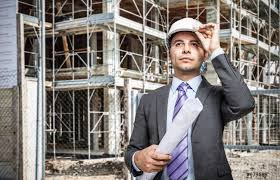casque: (133, 8, 257, 180)
